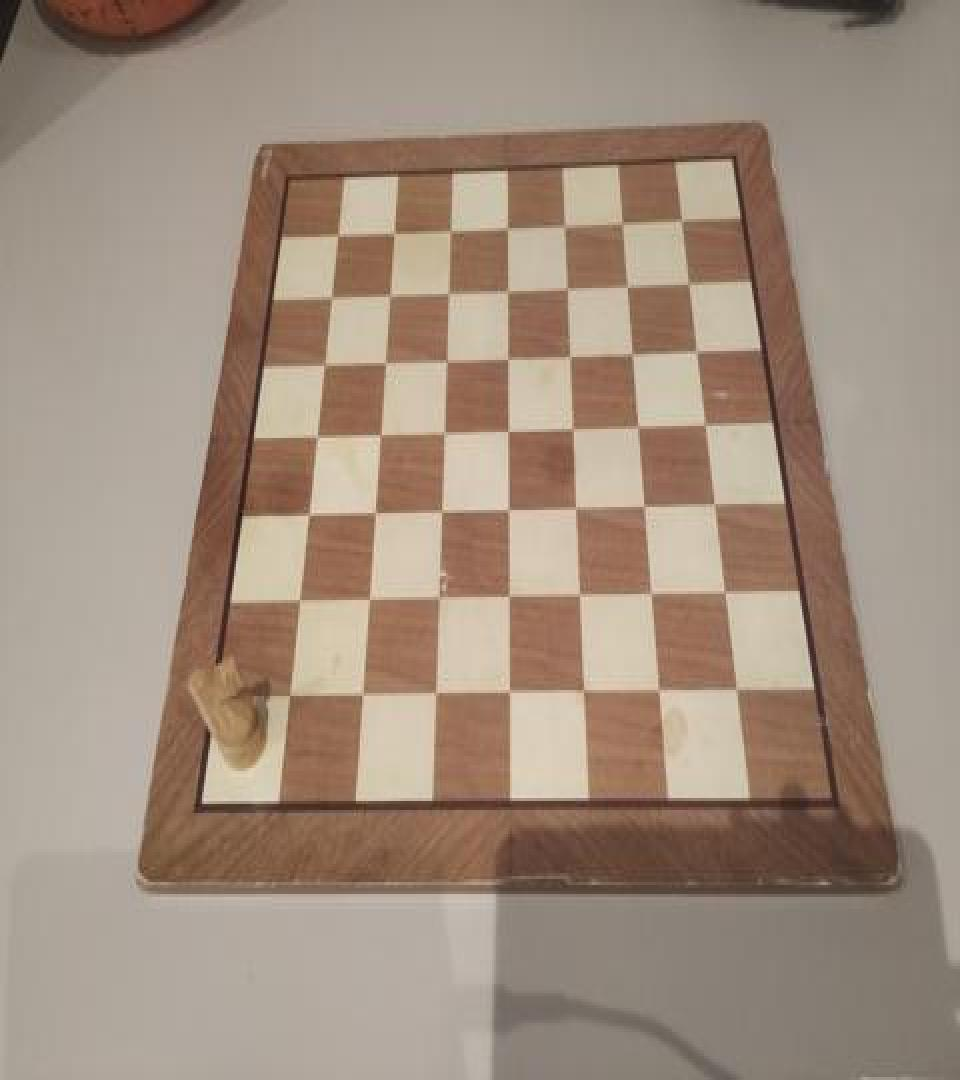xcorner: (277, 678, 297, 708), (351, 678, 371, 708), (426, 676, 446, 706), (501, 676, 521, 706), (576, 675, 596, 705), (288, 584, 308, 614), (358, 582, 378, 612), (500, 579, 520, 609), (572, 579, 592, 609), (644, 578, 664, 608), (717, 576, 737, 606), (298, 496, 318, 526), (365, 495, 385, 525), (432, 494, 452, 524), (500, 492, 520, 522), (569, 490, 589, 520), (637, 489, 657, 519), (707, 489, 727, 519), (306, 417, 326, 447), (370, 416, 390, 446), (435, 414, 455, 444), (500, 412, 520, 442), (565, 411, 585, 441), (631, 410, 651, 440), (697, 408, 717, 438), (314, 345, 334, 375), (376, 344, 396, 374), (438, 342, 458, 372), (500, 340, 520, 370), (562, 338, 582, 368), (625, 336, 645, 366), (689, 334, 709, 364), (322, 278, 342, 308), (381, 276, 401, 306), (440, 274, 460, 304), (500, 273, 520, 303), (560, 272, 580, 302), (620, 270, 640, 300), (681, 267, 701, 297), (328, 216, 348, 246), (385, 214, 405, 244), (442, 213, 462, 243), (500, 212, 520, 242), (557, 210, 577, 240), (615, 207, 635, 237), (673, 206, 693, 236), (652, 674, 672, 703), (728, 674, 748, 703), (429, 581, 449, 610)
